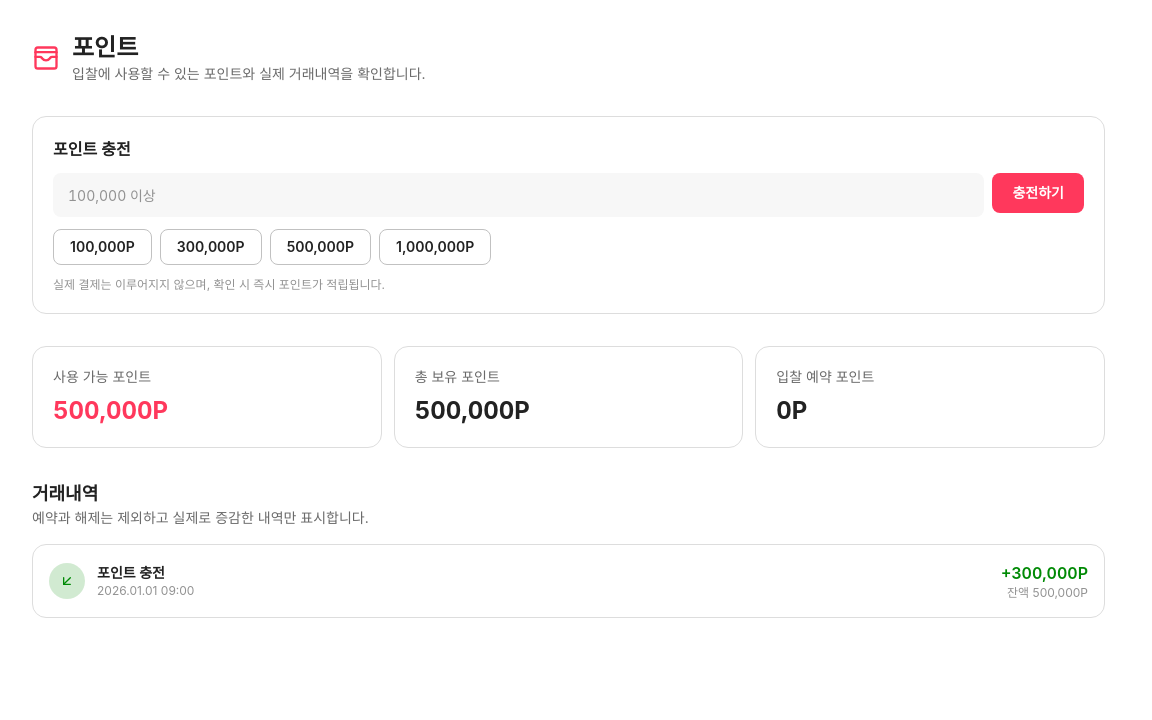
Test: 포인트 충전 › 충전이_실패하면_실패_모달에_서버_메시지를_보여준다
The image size is (1152, 720).
Click the button "300,000P". click: (211, 247)
box: [160,229,262,265]
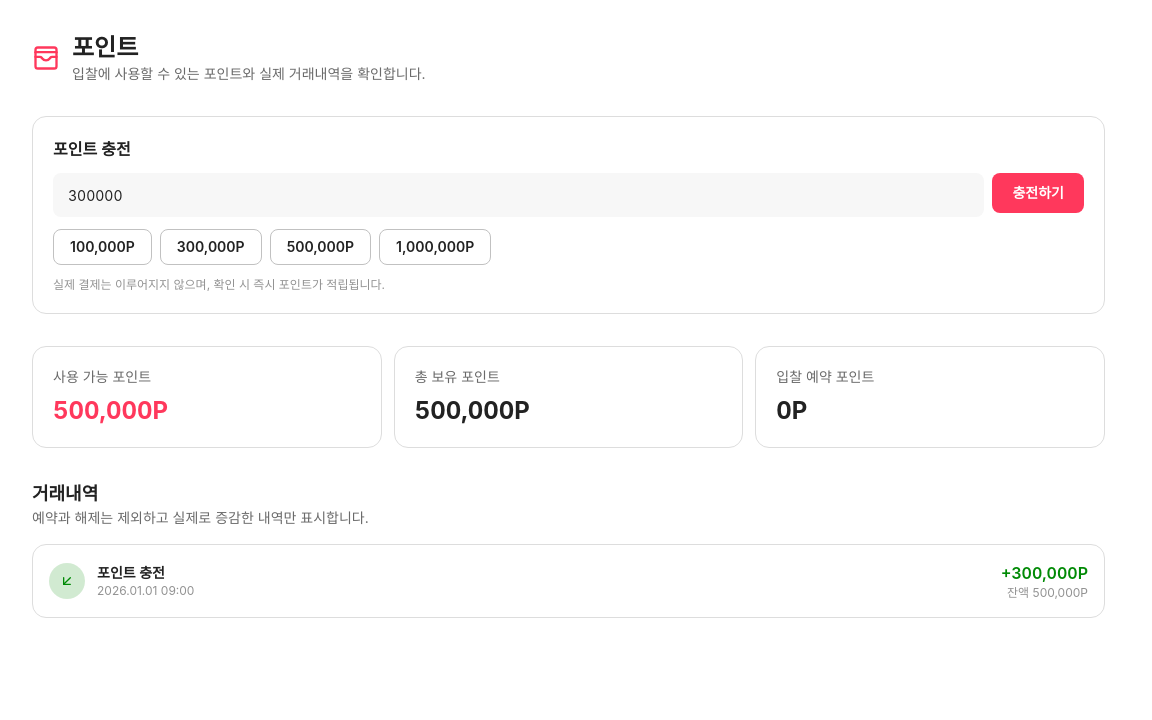
Click the button "충전하기". click: (1038, 193)
box: [992,173,1084,213]
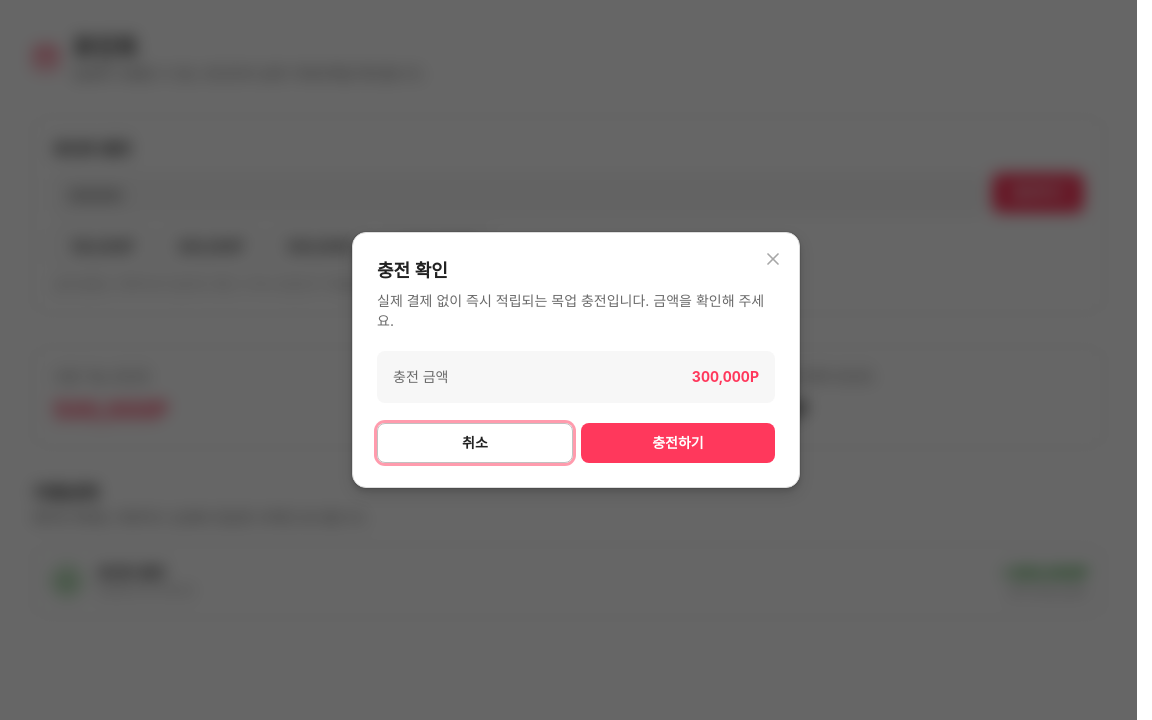
Click the button "충전하기". click: (678, 443)
box: [581,423,775,463]
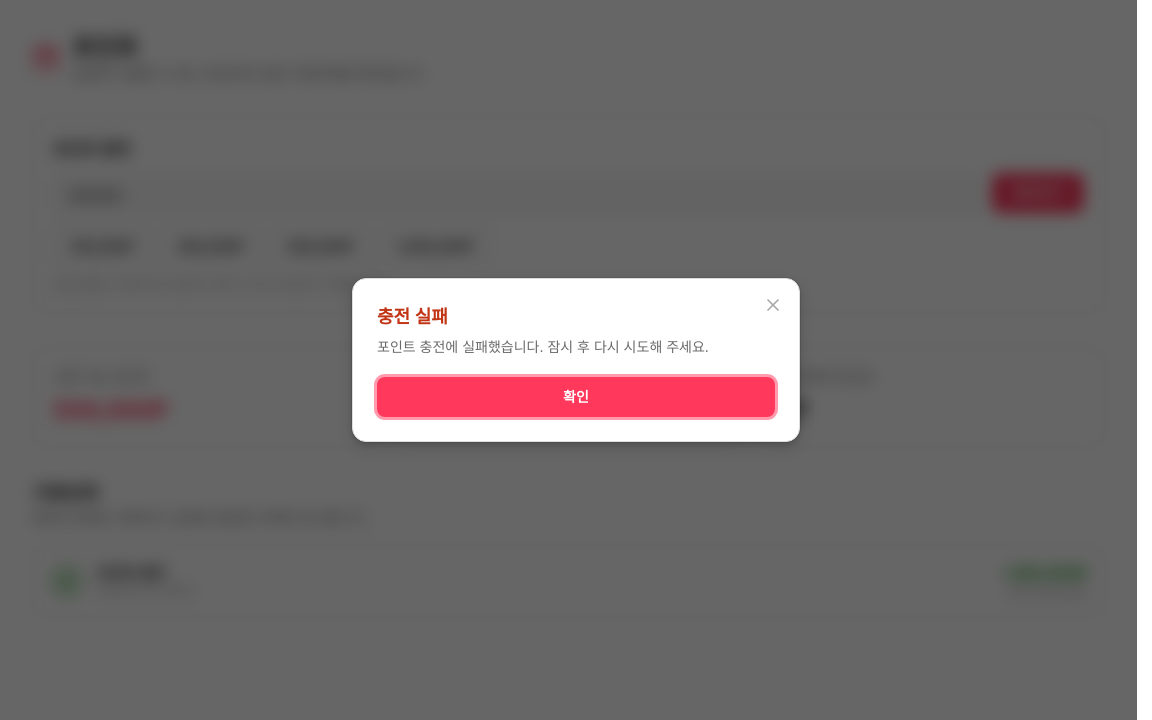
Check: the heading "충전 실패" is shown, box [377,306,448,327]
